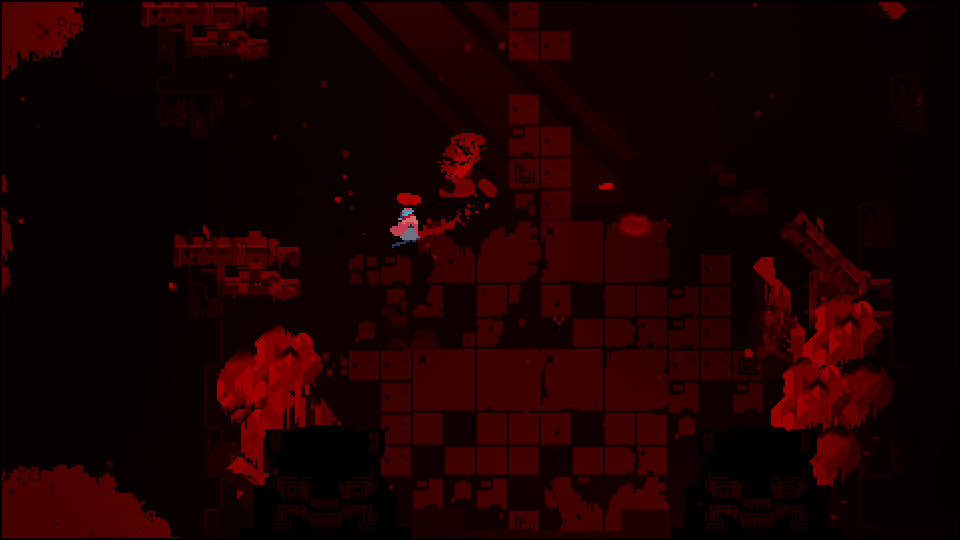player: (393, 207, 422, 251)
